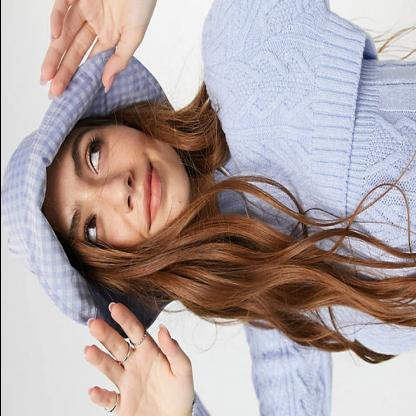hat: (1, 34, 189, 355)
